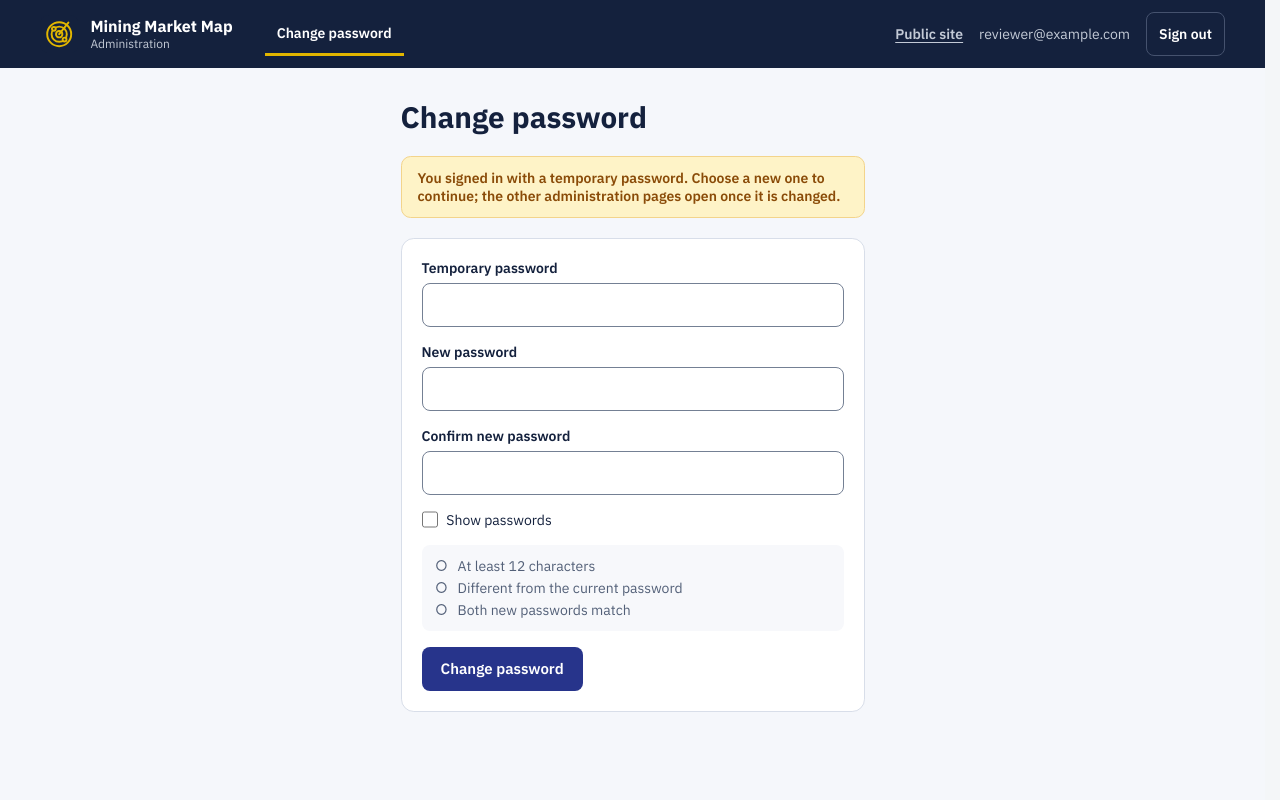
it: administration access › ticks off the password rules while the new password is typed
This screenshot has width=1280, height=800.
Step 1. Type "temporary-pass" into the password field labelled "Temporary password" → (632, 304), box [422,282,844,326]
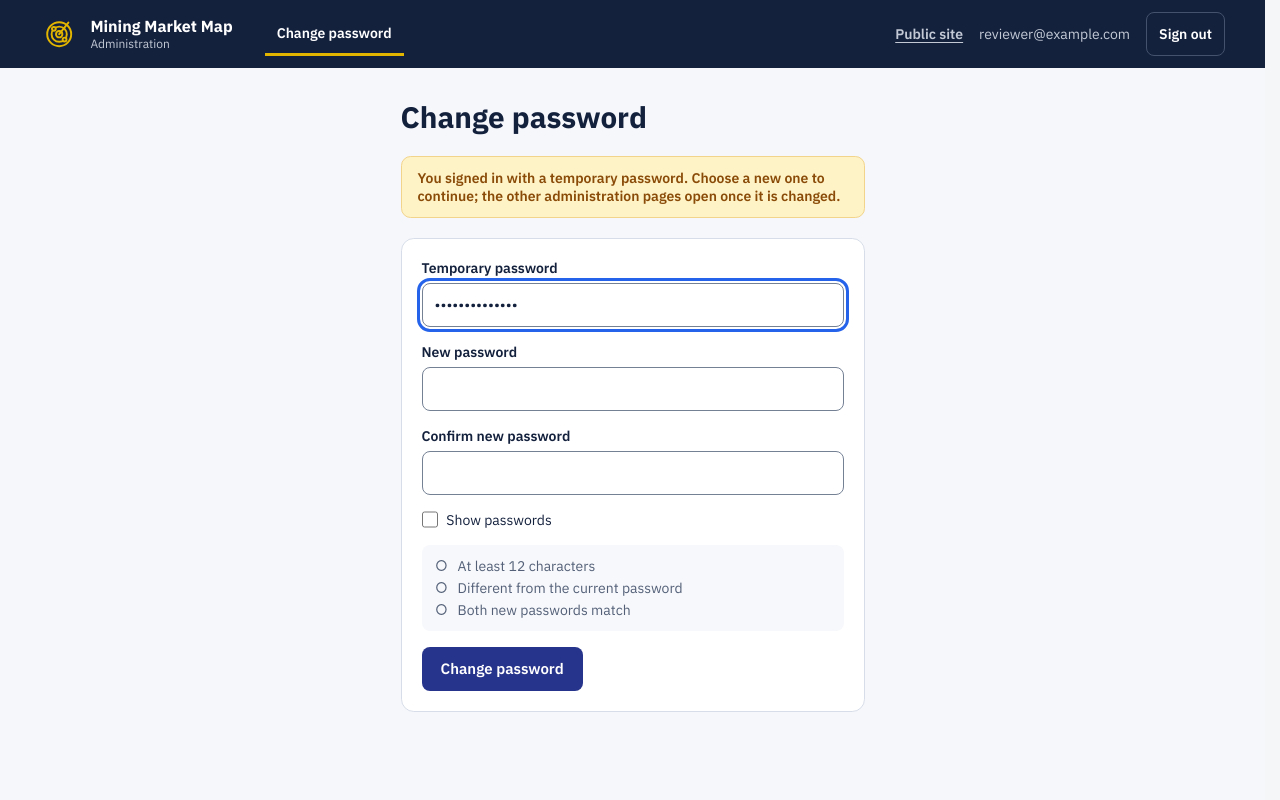
Step 2. Type "a-much-longer-password" into the password field labelled "New password" → (632, 388), box [422,366,844,410]
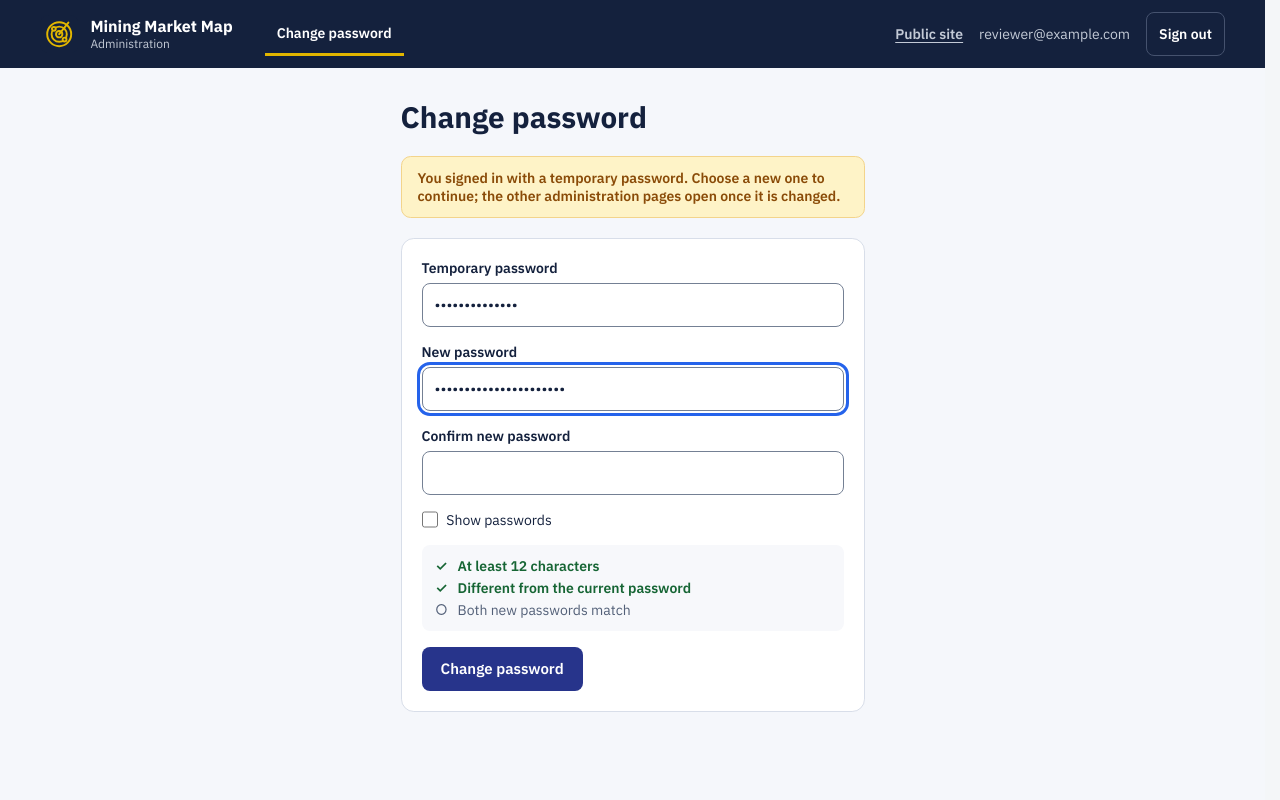
Step 3. Type "a-much-longer-password" into the password field labelled "Confirm new password" → (632, 472), box [422,450,844,494]
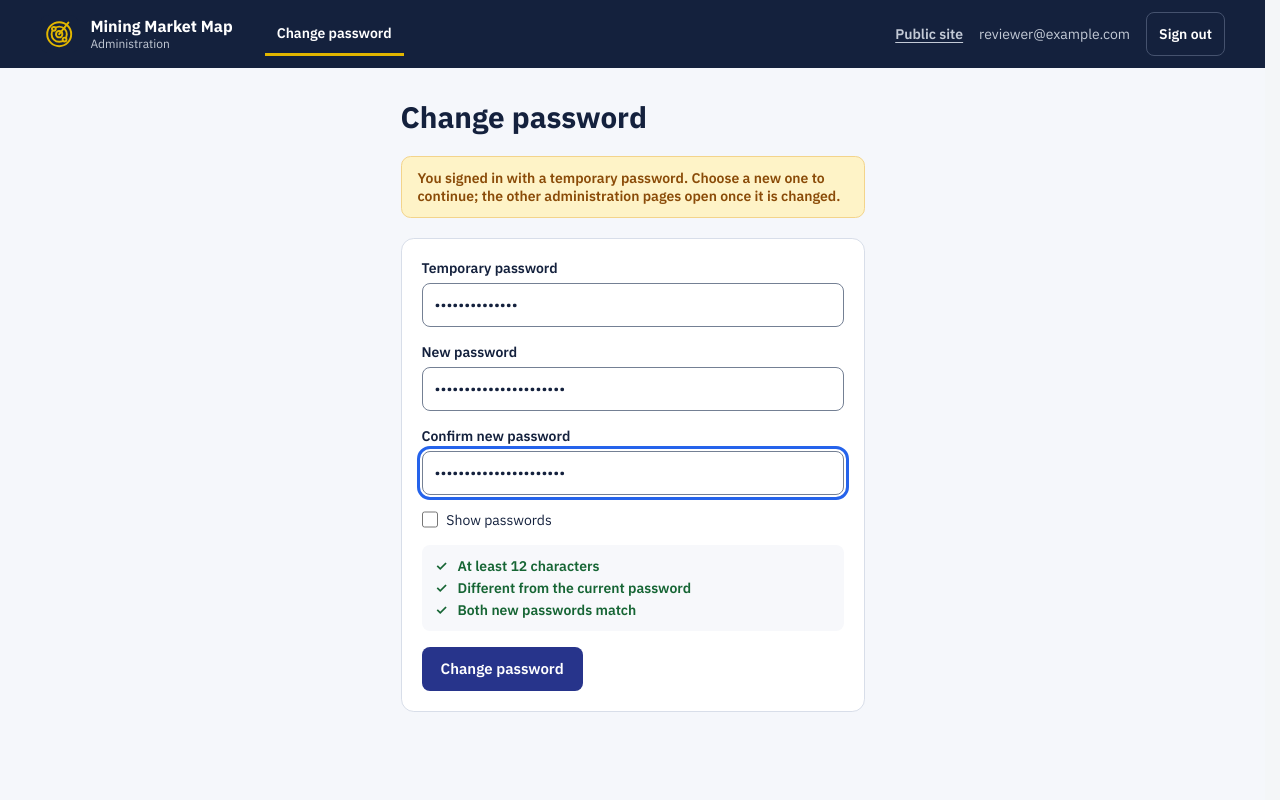
Step 4. Click the checkbox labelled "Show passwords" → (430, 520), box [422,511,438,528]
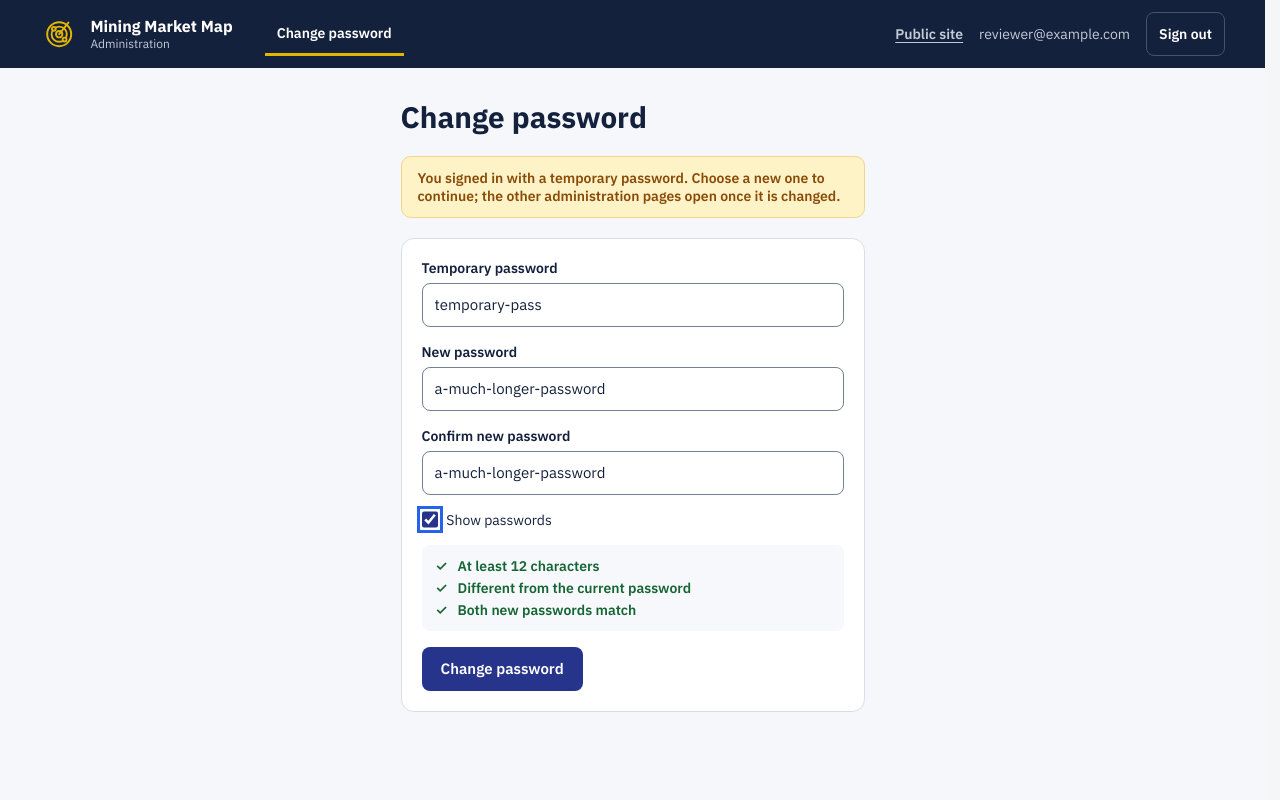
Expected: the field labelled "New password" shows its text, [422,366,844,410]
